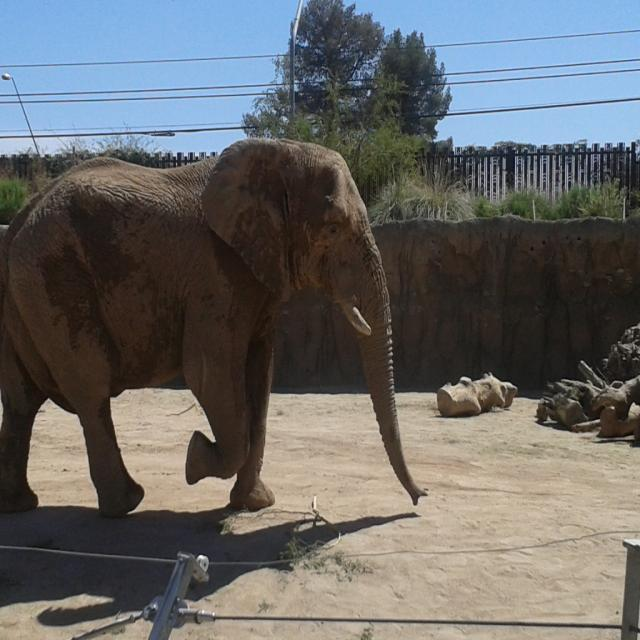Elephant: (0, 138, 429, 505)
